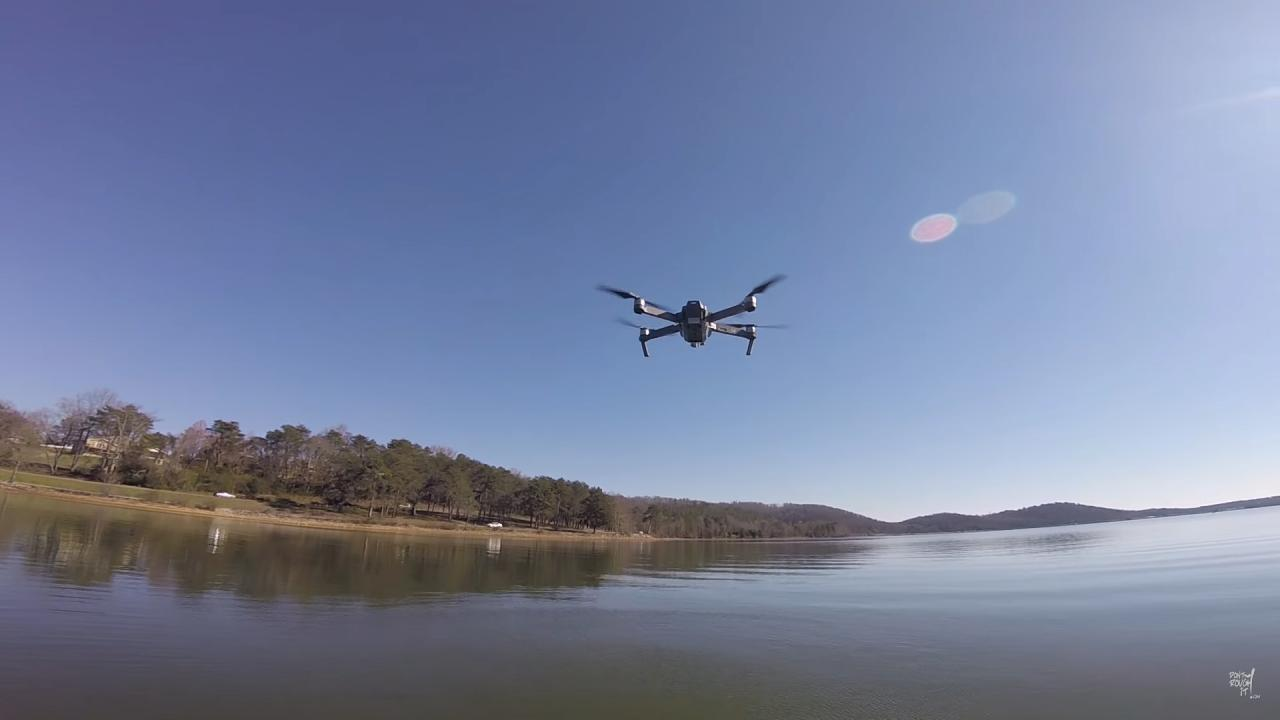Drone: (585, 262, 806, 368)
